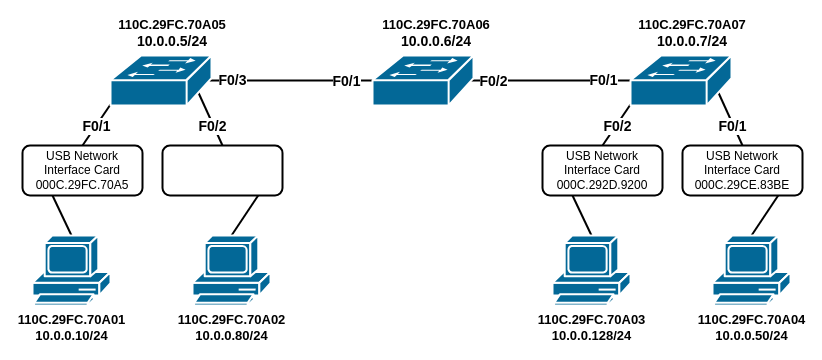
The diagram is 822 pixels wide and 360 high, and some of its shapes have lost their labels. Each missing label, with the centre of its shape:
S1: point (160, 80)
S2: point (422, 80)
S3: point (680, 80)
USB Network Interface Card 000C.2982.4429: point (222, 170)
